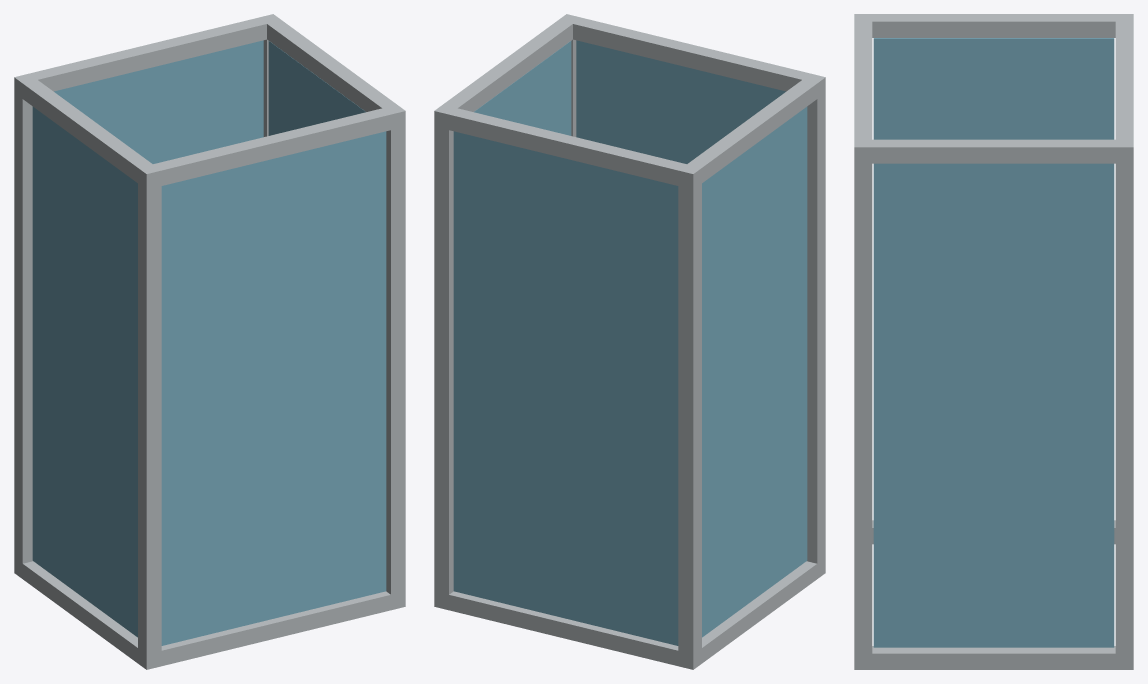
Rendered from 11_L76_InterconnectWaferCassette.glb.
3 renders of one model, left to right at view 1: azimuth 30°, elevation 25°; view 2: azimuth 150°, elevation 25°; view 3: azimuth 270°, elevation 25°, orthographic. The views are drawn at different scales.
Visible parts, largest first — view 1: InterconnectWaferCassette_Node_0044, InterconnectWaferCassette_Node_0045, InterconnectWaferCassette_Node_0043, InterconnectWaferCassette_Node_0032, InterconnectWaferCassette_Node_0034, InterconnectWaferCassette_Node_0031, InterconnectWaferCassette_Node_0040, InterconnectWaferCassette_Node_0039, InterconnectWaferCassette_Node_0036, InterconnectWaferCassette_Node_0046, InterconnectWaferCassette_Node_0041, InterconnectWaferCassette_Node_0042 (+2 smaller); view 2: InterconnectWaferCassette_Node_0043, InterconnectWaferCassette_Node_0045, InterconnectWaferCassette_Node_0044, InterconnectWaferCassette_Node_0031, InterconnectWaferCassette_Node_0033, InterconnectWaferCassette_Node_0032, InterconnectWaferCassette_Node_0039, InterconnectWaferCassette_Node_0040, InterconnectWaferCassette_Node_0035, InterconnectWaferCassette_Node_0046, InterconnectWaferCassette_Node_0041, InterconnectWaferCassette_Node_0042 (+2 smaller); view 3: InterconnectWaferCassette_Node_0046, InterconnectWaferCassette_Node_0045, InterconnectWaferCassette_Node_0033, InterconnectWaferCassette_Node_0034, InterconnectWaferCassette_Node_0042, InterconnectWaferCassette_Node_0041, InterconnectWaferCassette_Node_0038, InterconnectWaferCassette_Node_0040, InterconnectWaferCassette_Node_0039.
Part boxes in pixels (box(x1,y1,x2,y2)): InterconnectWaferCassette_Node_0044: box(161, 131, 386, 645); InterconnectWaferCassette_Node_0045: box(32, 106, 137, 637); InterconnectWaferCassette_Node_0043: box(54, 40, 263, 163); InterconnectWaferCassette_Node_0032: box(138, 164, 161, 669); InterconnectWaferCassette_Node_0034: box(383, 105, 405, 610); InterconnectWaferCassette_Node_0031: box(14, 74, 37, 578); InterconnectWaferCassette_Node_0040: box(138, 105, 405, 188); InterconnectWaferCassette_Node_0039: box(15, 14, 279, 91); InterconnectWaferCassette_Node_0036: box(138, 591, 405, 669); InterconnectWaferCassette_Node_0046: box(268, 41, 365, 135); InterconnectWaferCassette_Node_0041: box(15, 76, 161, 188); InterconnectWaferCassette_Node_0042: box(260, 16, 405, 125); InterconnectWaferCassette_Node_0043: box(453, 131, 678, 645); InterconnectWaferCassette_Node_0045: box(702, 106, 807, 637); InterconnectWaferCassette_Node_0044: box(576, 40, 785, 163); InterconnectWaferCassette_Node_0031: box(678, 164, 701, 669); InterconnectWaferCassette_Node_0033: box(434, 105, 456, 610); InterconnectWaferCassette_Node_0032: box(802, 73, 825, 578); InterconnectWaferCassette_Node_0039: box(434, 106, 700, 188); InterconnectWaferCassette_Node_0040: box(559, 14, 824, 91); InterconnectWaferCassette_Node_0035: box(434, 591, 701, 669); InterconnectWaferCassette_Node_0046: box(474, 41, 571, 135); InterconnectWaferCassette_Node_0041: box(678, 74, 824, 187); InterconnectWaferCassette_Node_0042: box(435, 15, 579, 128); InterconnectWaferCassette_Node_0046: box(873, 163, 1114, 647); InterconnectWaferCassette_Node_0045: box(873, 38, 1114, 139); InterconnectWaferCassette_Node_0033: box(1115, 139, 1133, 669); InterconnectWaferCassette_Node_0034: box(854, 139, 872, 669); InterconnectWaferCassette_Node_0042: box(854, 139, 1132, 163); InterconnectWaferCassette_Node_0041: box(854, 14, 1133, 37); InterconnectWaferCassette_Node_0038: box(858, 646, 1127, 669); InterconnectWaferCassette_Node_0040: box(854, 14, 872, 163); InterconnectWaferCassette_Node_0039: box(1115, 14, 1133, 163).
Bounding box in the file's own units: 1.22 × 2.23 × 1.08.
